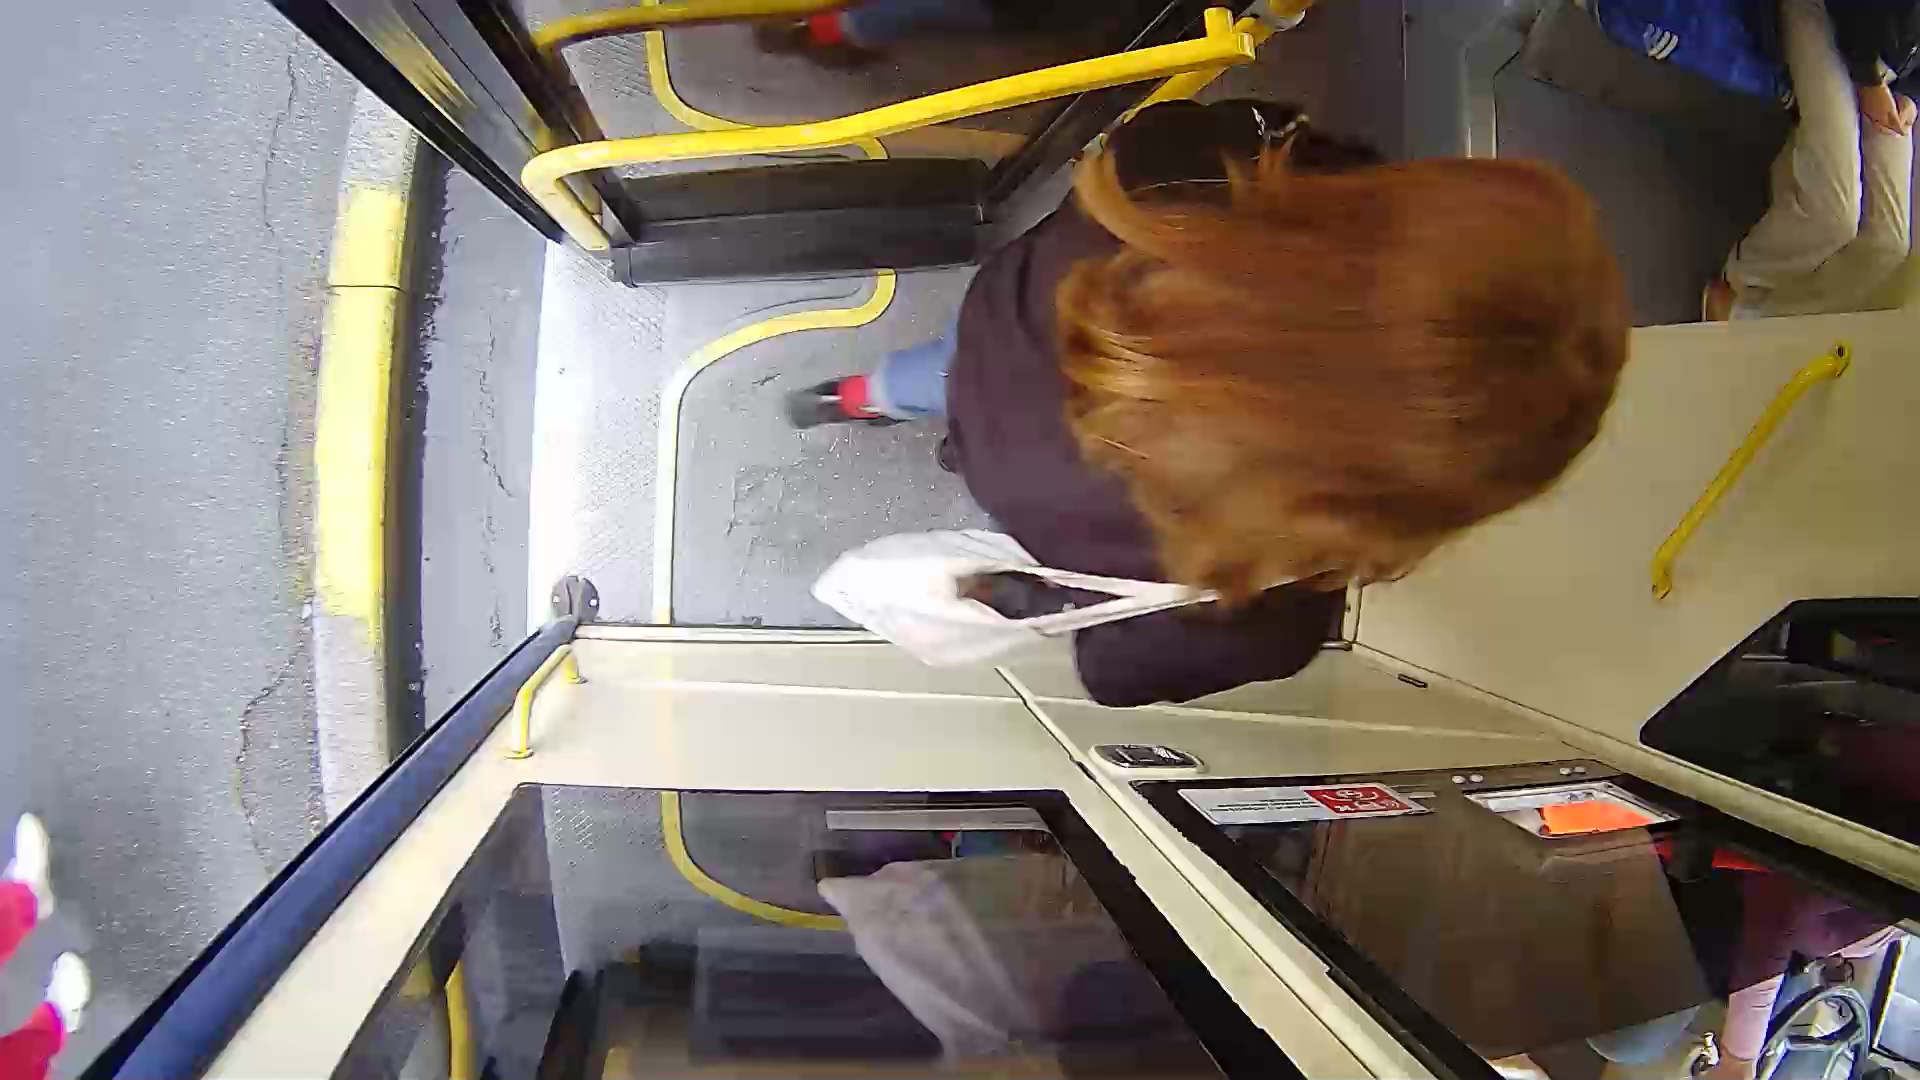person: (896, 68, 1715, 754)
